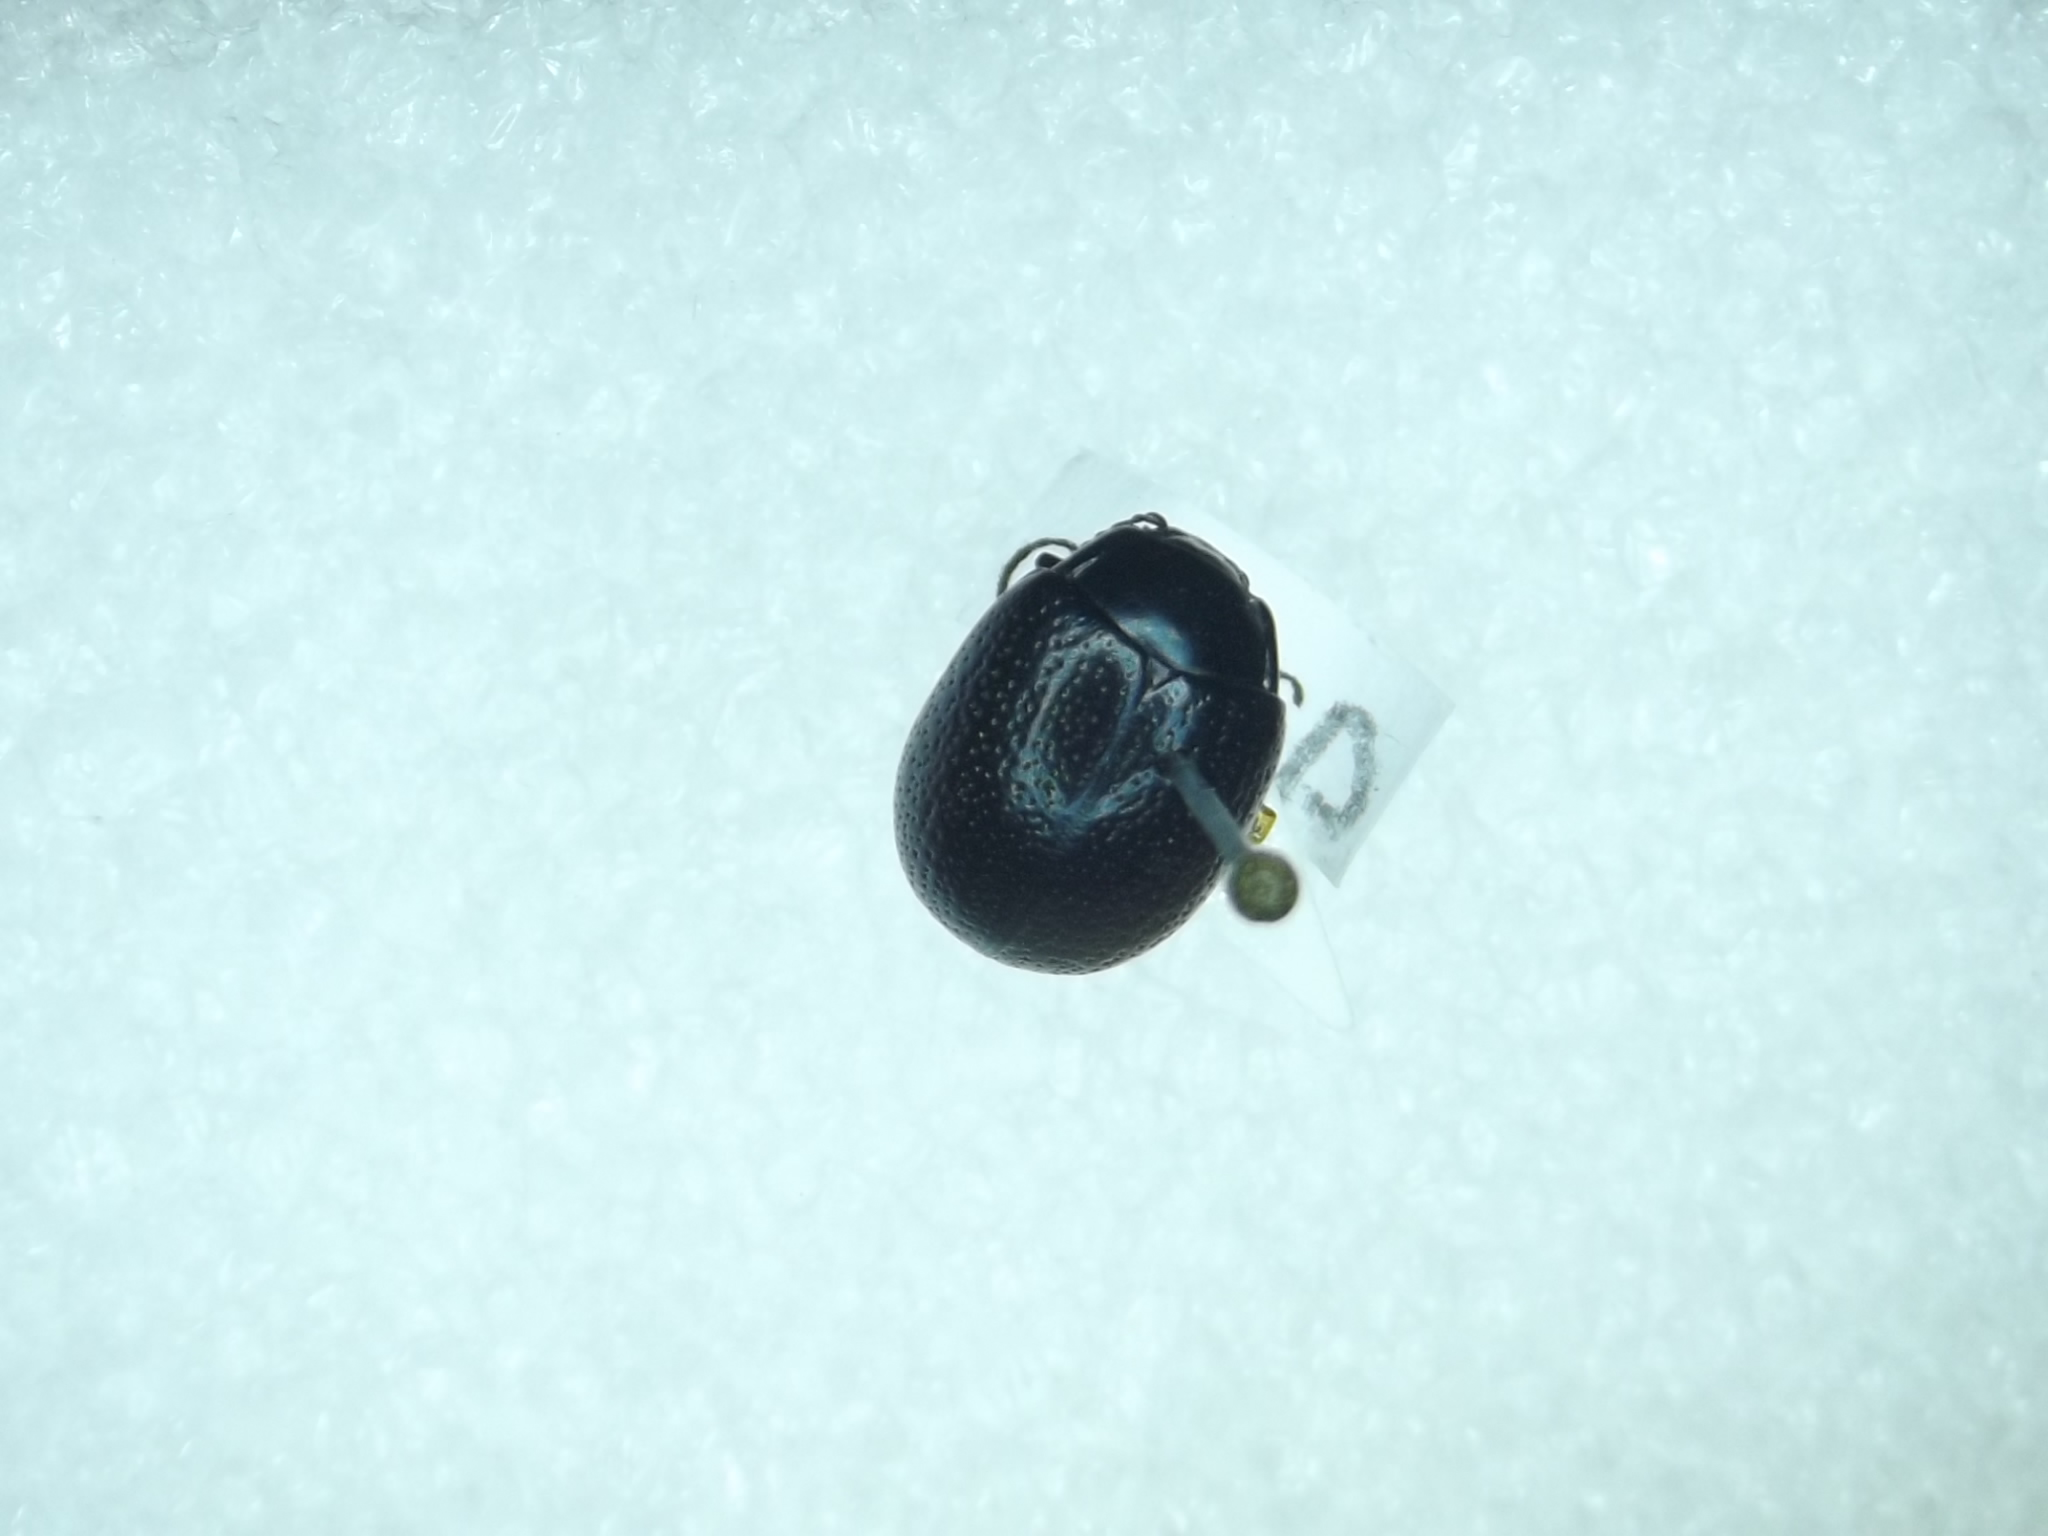Chrysolina_oricalcia: (882, 511, 1301, 999)
